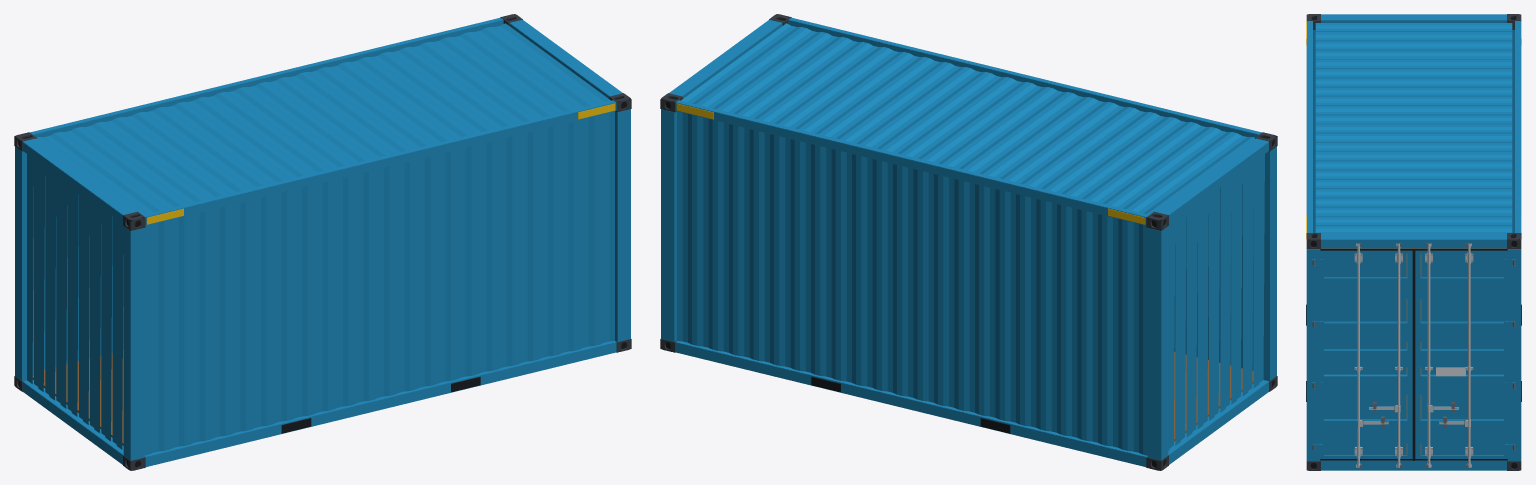
File: iso_20ft_hc_25g1.obj
The picture shows the model from 3 angles, left to right: view 1: azimuth 30°, elevation 25°; view 2: azimuth 150°, elevation 25°; view 3: azimuth 270°, elevation 25°; orthographic projection. The views are drawn at different scales.
Visible parts, largest first — view 1: 04_Corrugated_Corten_Panels, 02_Structural_Frame_Rails, 01_ISO_Corner_Castings_Hollow3D, 03_Marine_Wood_Floor, 01_ISO_Corner_Castings_Hollow3D_Cavity; view 2: 04_Corrugated_Corten_Panels, 02_Structural_Frame_Rails, 01_ISO_Corner_Castings_Hollow3D, 03_Marine_Wood_Floor, 01_ISO_Corner_Castings_Hollow3D_Cavity; view 3: 04_Corrugated_Corten_Panels, 06_Corrugated_Rear_Doors, 02_Structural_Frame_Rails, 07_Galvanized_Locking_Hardware, 05_Door_Rubber_Gaskets_Beveled, 01_ISO_Corner_Castings_Hollow3D, 03_Marine_Wood_Floor, 08_CSC_Safety_Data_Plate, 01_ISO_Corner_Castings_Hollow3D_Cavity.
Boxes of the visible parts, x1,y1,x2,y2 form: 04_Corrugated_Corten_Panels: (27, 23, 614, 455); 02_Structural_Frame_Rails: (15, 17, 630, 466); 01_ISO_Corner_Castings_Hollow3D: (14, 14, 631, 470); 03_Marine_Wood_Floor: (32, 350, 123, 445); 01_ISO_Corner_Castings_Hollow3D_Cavity: (18, 18, 626, 467); 04_Corrugated_Corten_Panels: (677, 23, 1264, 455); 02_Structural_Frame_Rails: (661, 17, 1276, 466); 01_ISO_Corner_Castings_Hollow3D: (660, 14, 1277, 470); 03_Marine_Wood_Floor: (1174, 352, 1253, 441); 01_ISO_Corner_Castings_Hollow3D_Cavity: (665, 18, 1273, 467); 04_Corrugated_Corten_Panels: (1315, 23, 1512, 233); 06_Corrugated_Rear_Doors: (1312, 248, 1515, 458); 02_Structural_Frame_Rails: (1306, 14, 1521, 470); 07_Galvanized_Locking_Hardware: (1312, 243, 1515, 468); 05_Door_Rubber_Gaskets_Beveled: (1320, 248, 1507, 460); 01_ISO_Corner_Castings_Hollow3D: (1306, 14, 1521, 470); 03_Marine_Wood_Floor: (1321, 248, 1506, 454); 08_CSC_Safety_Data_Plate: (1436, 367, 1465, 376); 01_ISO_Corner_Castings_Hollow3D_Cavity: (1306, 17, 1521, 468).
Size of the model in its own units: 6.08 by 2.9 by 2.45.
